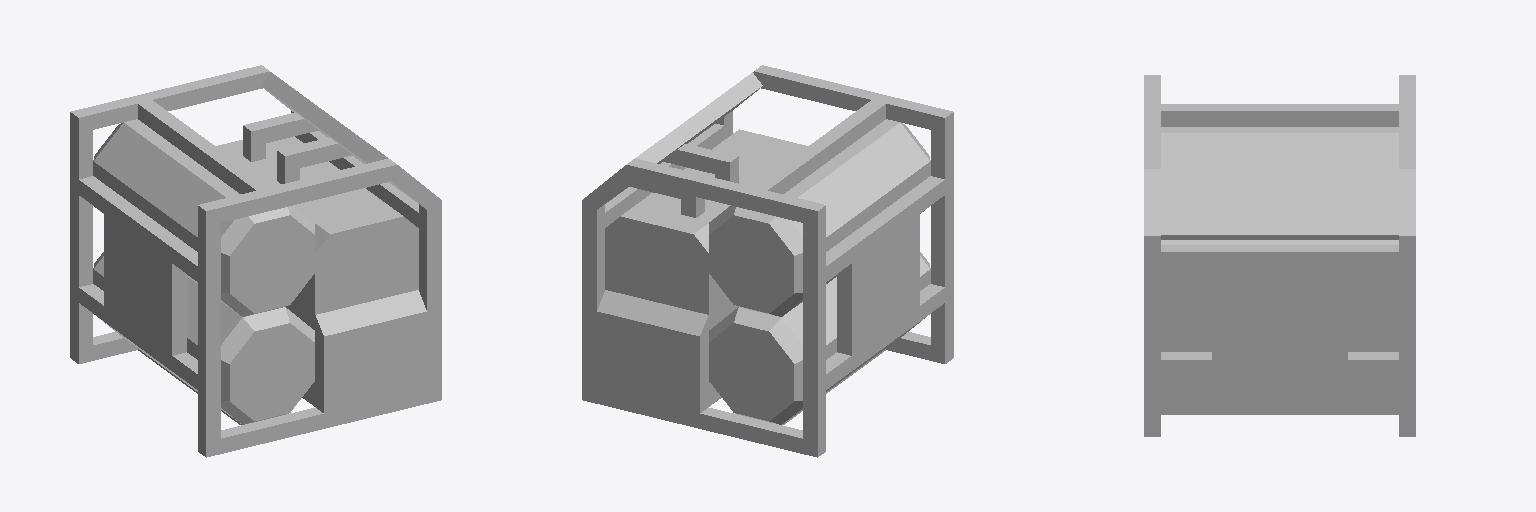
The model's file is electricCompressor.obj.
3 views of the same model, side by side, from view 1: azimuth 30°, elevation 25°; view 2: azimuth 150°, elevation 25°; view 3: azimuth 270°, elevation 25° (orthographic).
Visible parts, largest first — view 1: Frame, Tanks, Main, Wires, Front; view 2: Frame, Tanks, Main, Front, Wires; view 3: Frame, Main, Front, Tanks.
Part boxes in pixels (x1,y1,x2,y2): Frame: (70, 65, 441, 457); Tanks: (93, 119, 314, 424); Main: (216, 136, 426, 412); Wires: (243, 112, 351, 183); Front: (261, 72, 415, 201); Frame: (582, 65, 953, 457); Tanks: (709, 119, 930, 424); Main: (597, 129, 807, 412); Front: (608, 72, 762, 201); Wires: (629, 144, 738, 217); Frame: (1144, 75, 1415, 436); Main: (1161, 240, 1398, 413); Front: (1161, 171, 1398, 239); Tanks: (1161, 127, 1398, 170).
Size of the model in its own units: 16 by 16 by 16.